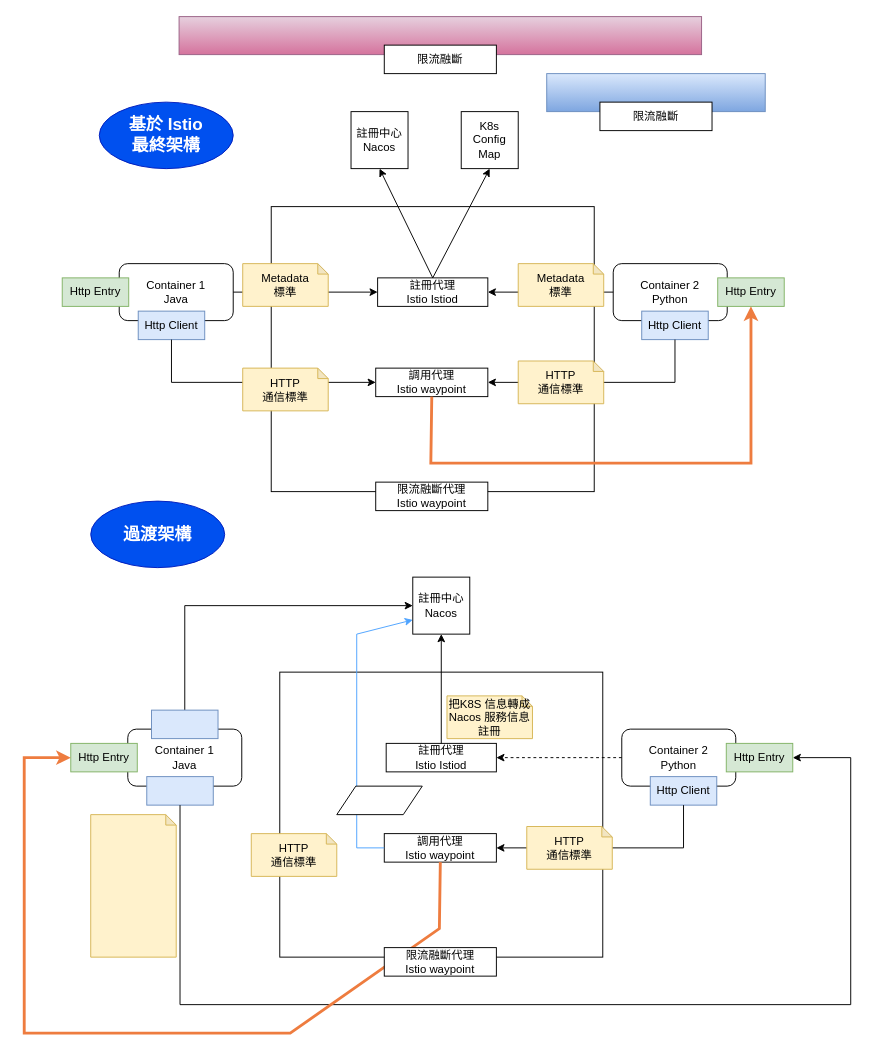
The diagram is 875 pixels wide and 1058 high, and some of its shapes have lost their labels. Each missing label, with the centre of its shape:
"入口 網關" goes at pixel 440 35.
"去中心化註冊Client" goes at pixel 184 724.
"去中心化調用Client" goes at pixel 179 790.
"域 網關" goes at pixel 655 92.
"轉換 Config Map" goes at pixel 379 800.
"需要細部調整路由規則. 如非 Java 服務在 Nacos 打 tag. 去中心化調用時對非 Java 服務不用做太多匹配規則" goes at pixel 133 885.
